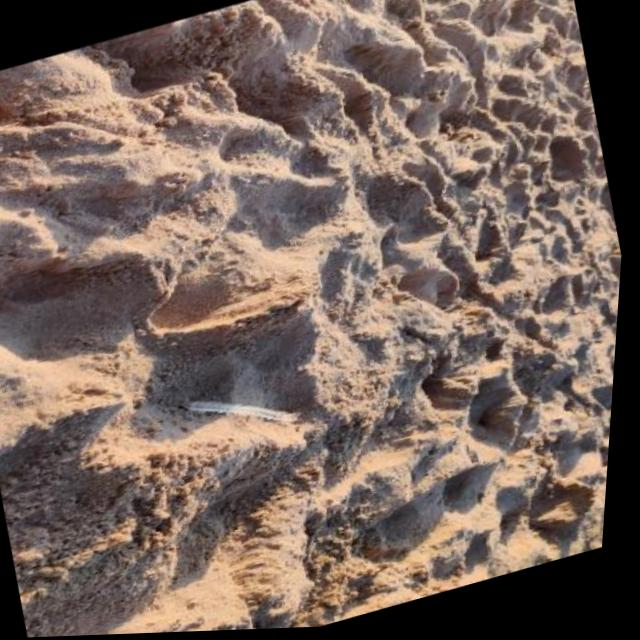plastic: (181, 371, 305, 448)
